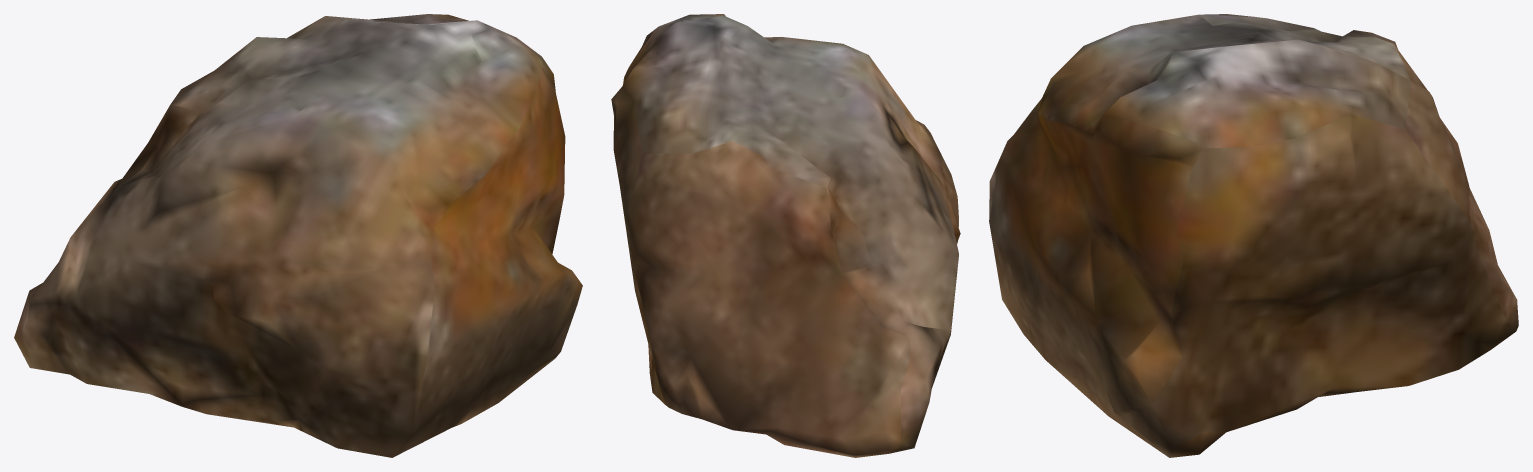
Rendered from rocher_granite_lod2.glb.
3 renders of one model, left to right at view 1: azimuth 30°, elevation 25°; view 2: azimuth 150°, elevation 25°; view 3: azimuth 270°, elevation 25°, orthographic. The views are drawn at different scales.
Visible parts, largest first — view 1: boulder_04; view 2: boulder_04; view 3: boulder_04.
Part boxes in pixels (<box>): boulder_04: <box>14,14,582,457</box>; boulder_04: <box>611,14,960,457</box>; boulder_04: <box>989,14,1518,457</box>.
Bounding box in the file's own units: 2.51 × 1.89 × 2.48.
Materials: 1 (1 with a texture image).
